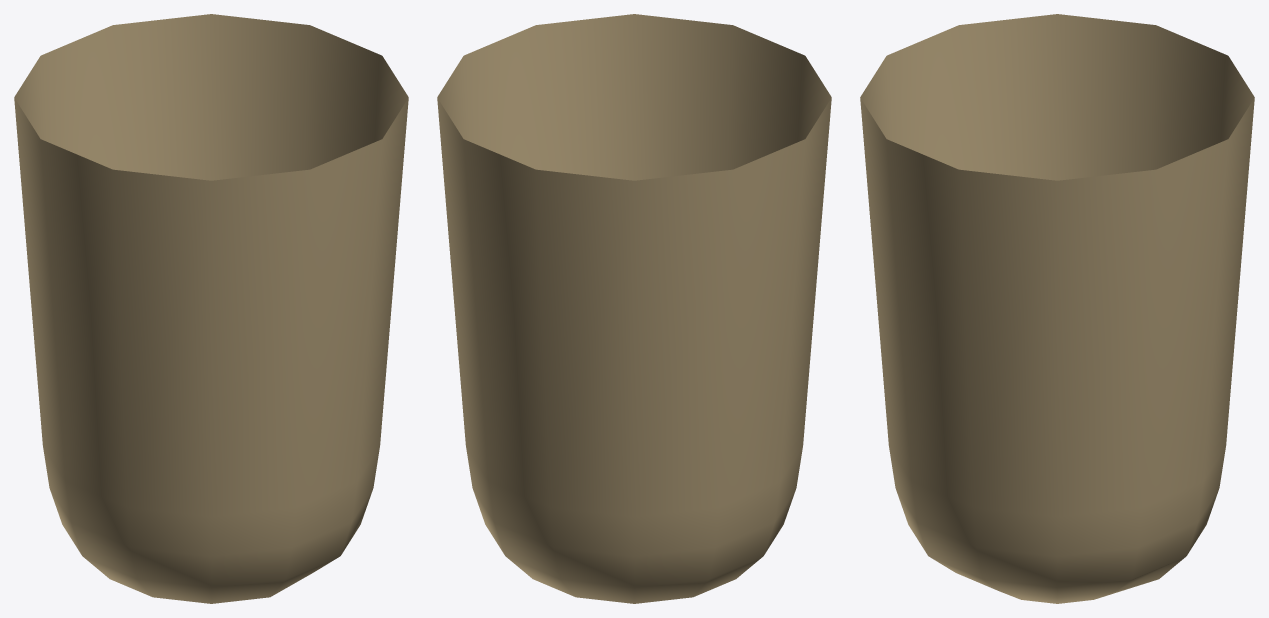
File: liquidmodelFace.fbx
The picture shows the model from 3 angles, left to right: view 1: azimuth 30°, elevation 25°; view 2: azimuth 150°, elevation 25°; view 3: azimuth 270°, elevation 25°; orthographic projection.
Visible parts, largest first — view 1: Cup.001; view 2: Cup.001; view 3: Cup.001.
Boxes of the visible parts, x1=… form: Cup.001: x1=14, y1=14, x2=408, y2=603; Cup.001: x1=437, y1=14, x2=831, y2=603; Cup.001: x1=860, y1=14, x2=1254, y2=603.
Bounding box in the file's own units: 98.21 × 131 × 98.21.
